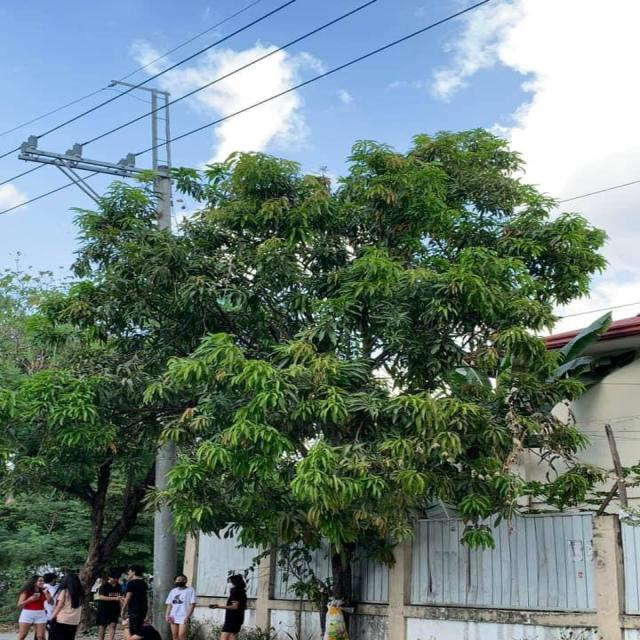Mango-Tree: (176, 124, 565, 558)
